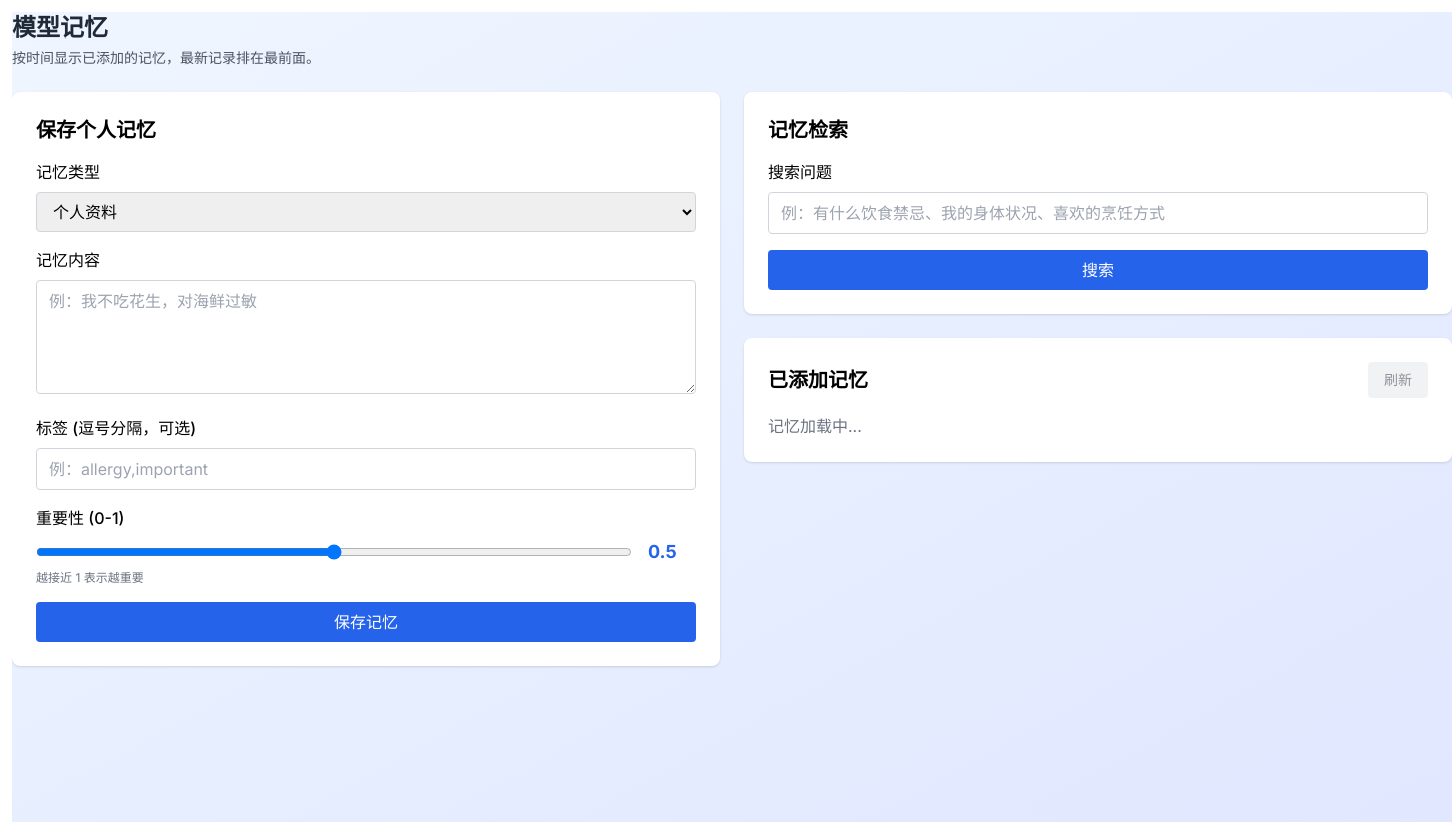
Test: MemorySearch › shows save success message
Type "我不吃花生" into the text box with placeholder "例：我不吃花生，对海鲜过敏". click: (366, 337)
box: top-left (36, 280), bottom-right (696, 394)
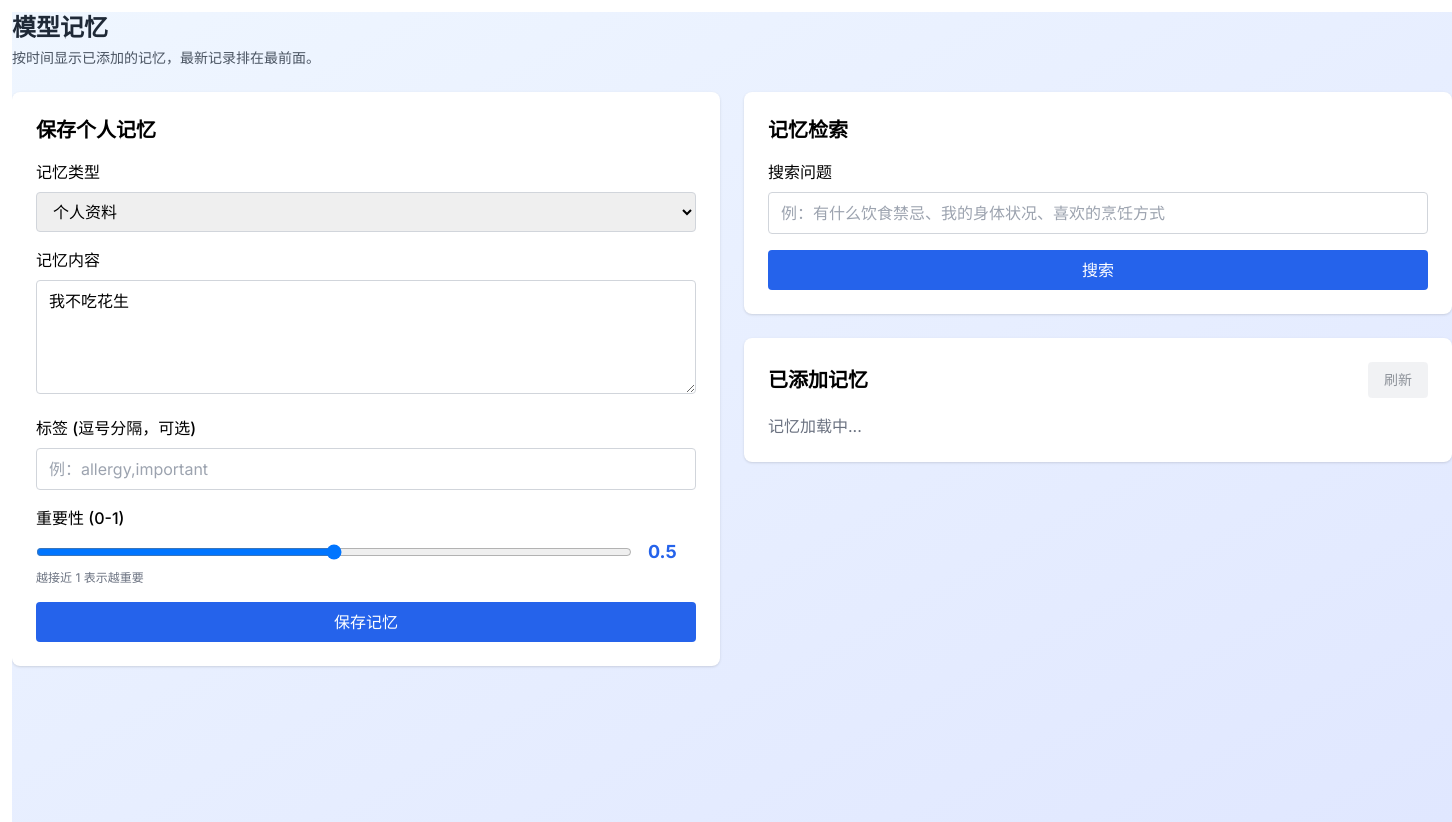
Click the button "保存记忆". click: (366, 622)
box: top-left (36, 602), bottom-right (696, 642)
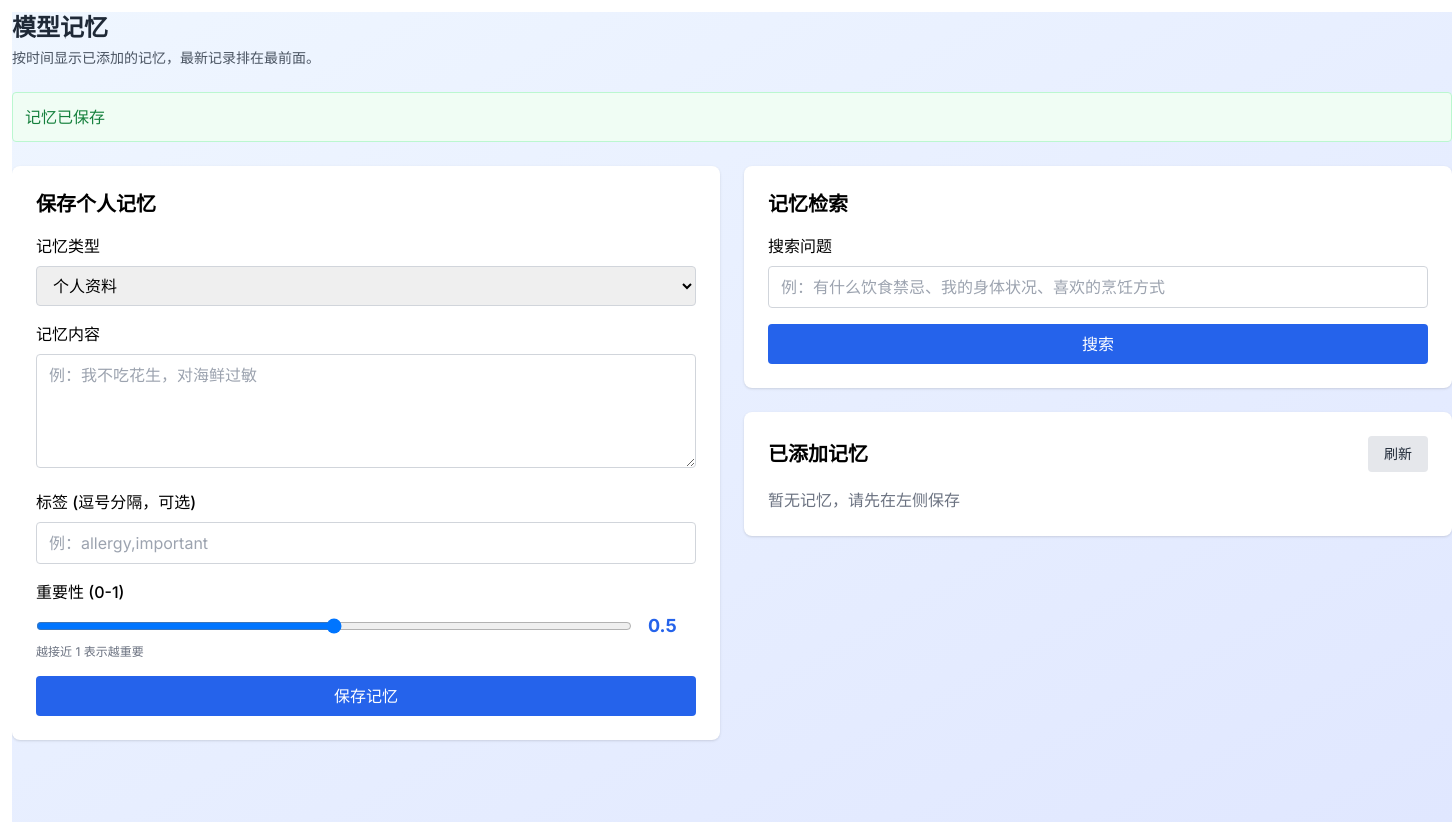
Expected: the text "记忆已保存" is shown, top-left (12, 92), bottom-right (1451, 142)
